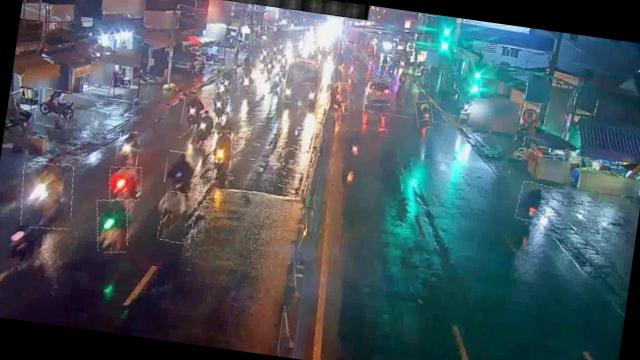Bike: (15, 160, 76, 232), (92, 196, 132, 255), (157, 190, 198, 244), (34, 88, 72, 128), (516, 181, 552, 223), (107, 164, 144, 202), (209, 129, 237, 175), (164, 150, 196, 188), (322, 81, 351, 116), (115, 130, 142, 167), (191, 114, 216, 150), (130, 64, 159, 92), (180, 97, 202, 126), (413, 99, 435, 128), (236, 65, 256, 96), (210, 90, 228, 124), (218, 65, 235, 89), (269, 68, 282, 90)
Bus: (282, 58, 323, 107)
Car: (363, 78, 392, 106)
